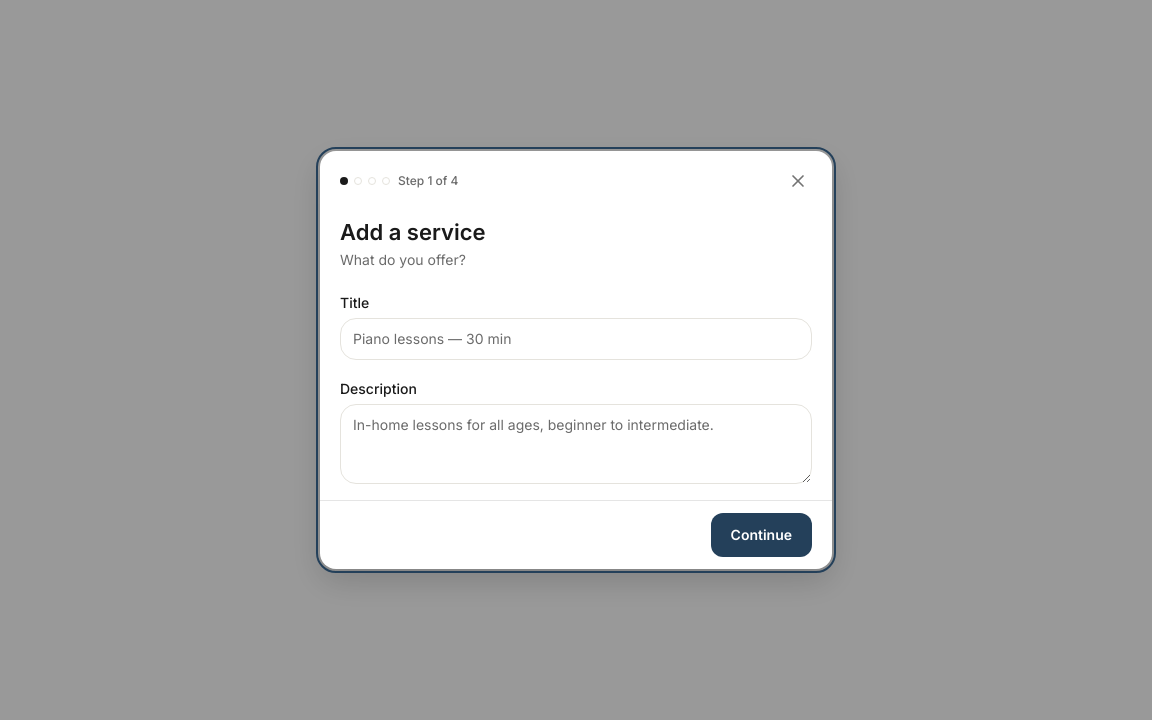
Scenario: T082 — pricing step › hides the rate input when rate model is quote
Type "Piano lessons" into the field with test id "service-title-input" at {"x": 576, "y": 339}, box left=340, top=318, right=812, bottom=360
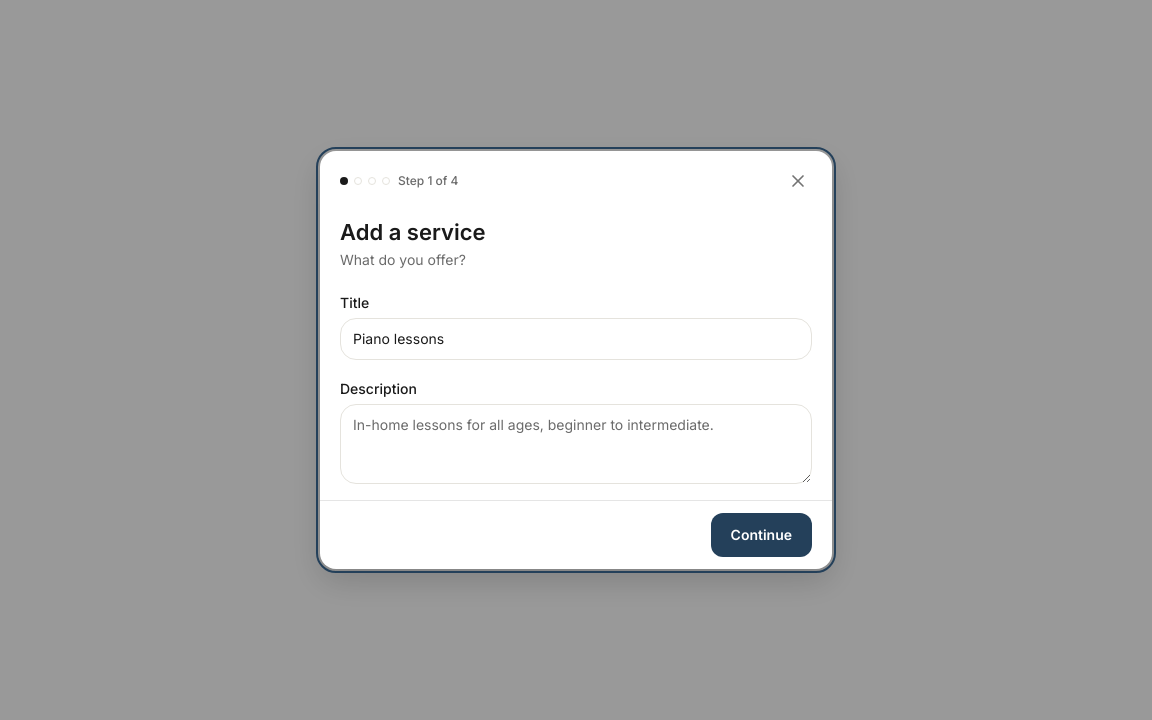
Type "In-home, 30 minutes." into the text box with test id "service-description-input" at {"x": 576, "y": 444}, box left=340, top=404, right=812, bottom=484
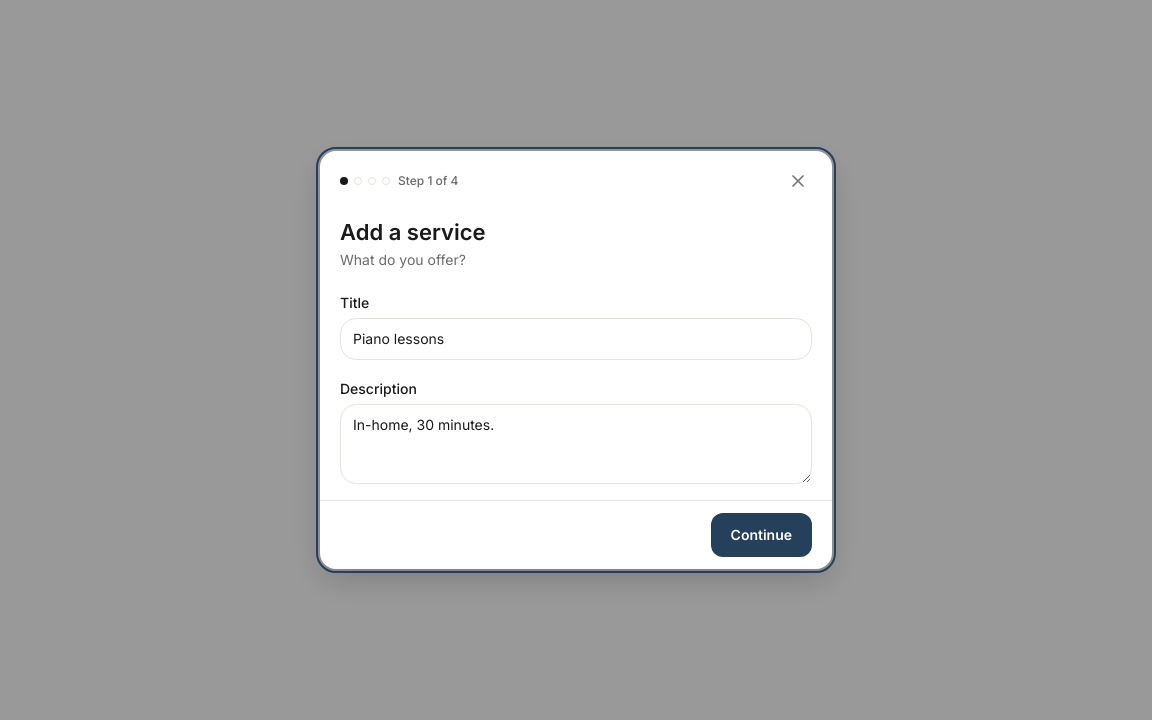
Click the button "Continue" at {"x": 761, "y": 535}, box left=711, top=513, right=812, bottom=557
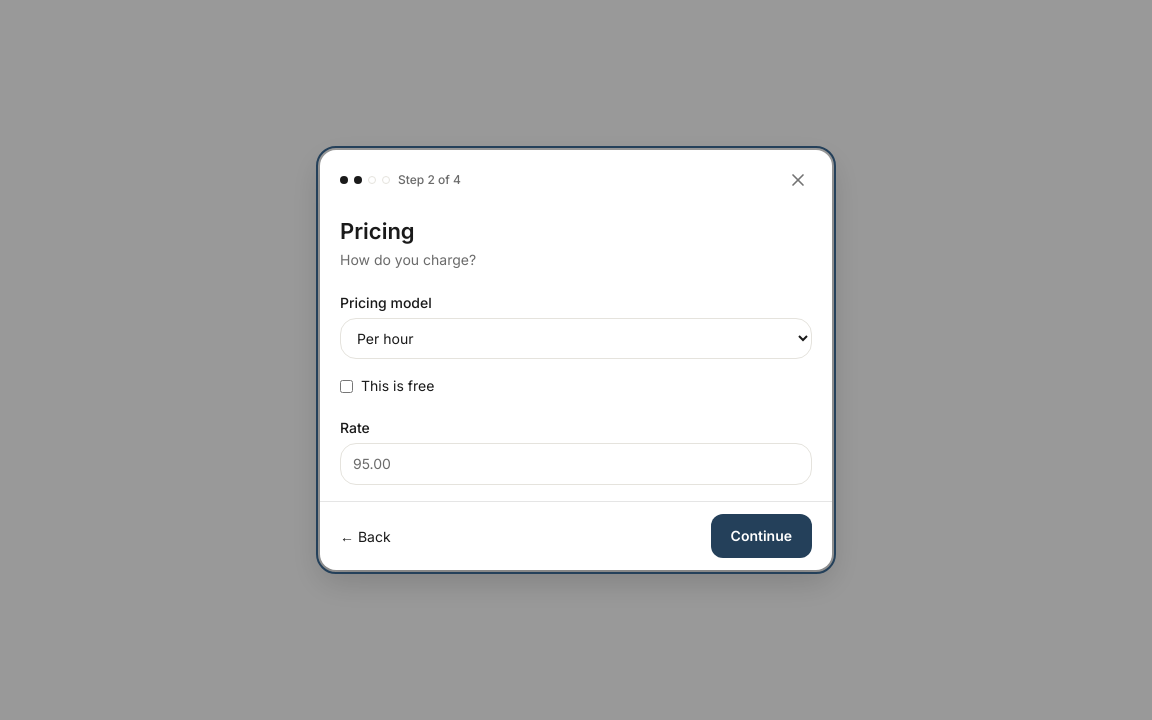
Check: the dropdown with test id "service-rate-model-select" is shown
Select "Request a quote" in the dropdown with test id "service-rate-model-select" at {"x": 576, "y": 338}, box left=340, top=318, right=812, bottom=359
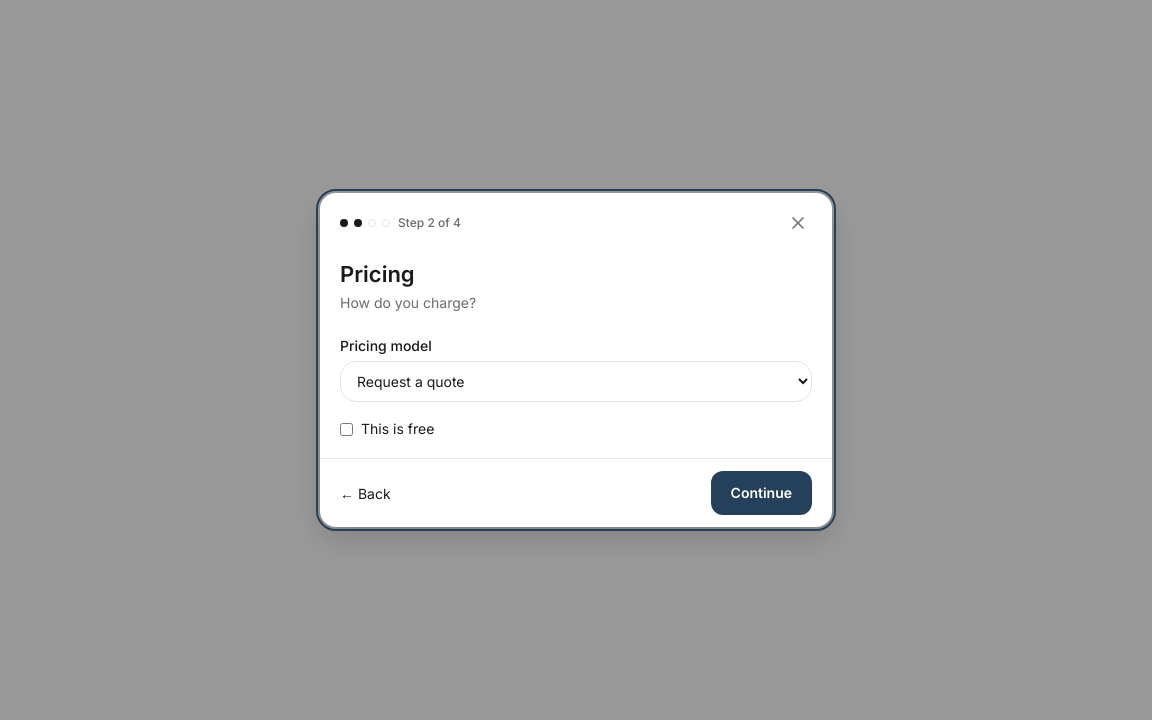
Check: the field with test id "service-rate-input" is gone
